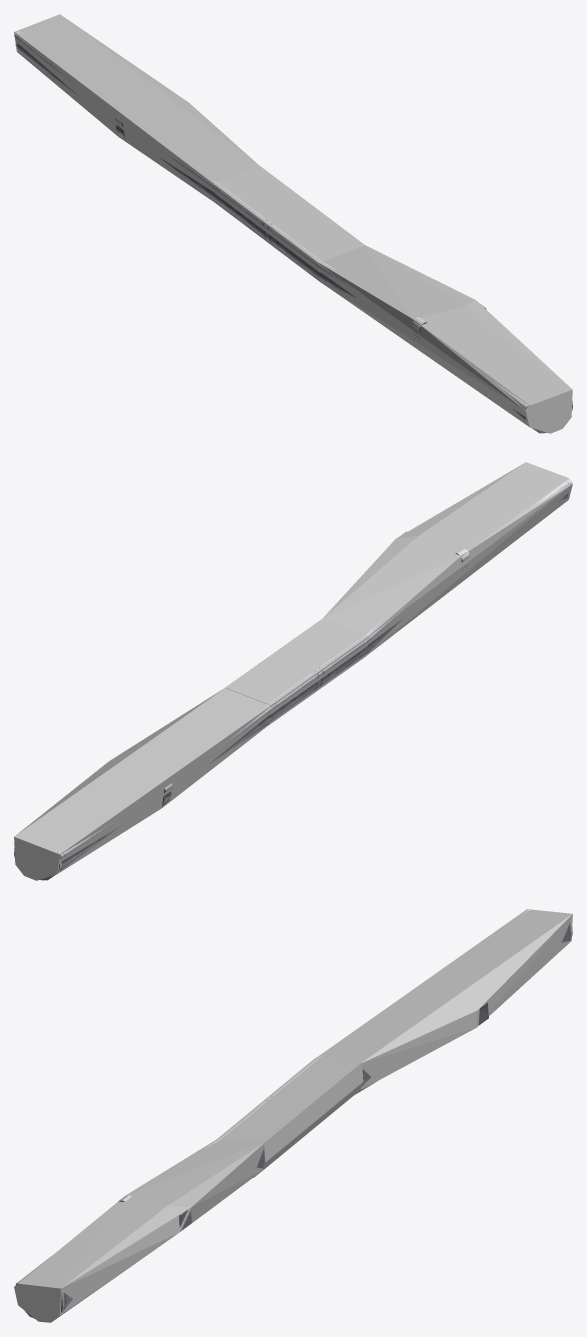
Rendered from SM_PropRoofDrainage01_1.fbx.
The picture shows the model from 3 angles, top to bottom: view 1: azimuth 30°, elevation 25°; view 2: azimuth 150°, elevation 25°; view 3: azimuth 330°, elevation 25°; orthographic projection.
Visible parts, largest first — view 1: SM_PropRoofDrainage01_1_ConvexHulls, SM_PropRoofDrainage01_1; view 2: SM_PropRoofDrainage01_1_ConvexHulls, SM_PropRoofDrainage01_1; view 3: SM_PropRoofDrainage01_1_ConvexHulls, SM_PropRoofDrainage01_1.
Part boxes in pixels (x1,y1,x2,y2): SM_PropRoofDrainage01_1_ConvexHulls: (14,14,572,433); SM_PropRoofDrainage01_1: (14,31,572,433); SM_PropRoofDrainage01_1_ConvexHulls: (14,462,572,880); SM_PropRoofDrainage01_1: (14,479,571,880); SM_PropRoofDrainage01_1_ConvexHulls: (14,909,572,1322); SM_PropRoofDrainage01_1: (15,910,572,1318).
Bounding box in the file's own units: 35.34 × 452 × 25.94.
Materials: 2 (1 with a texture image).
